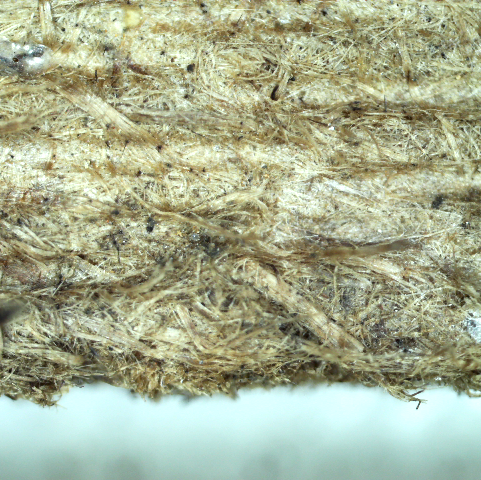ovo: (276, 319, 340, 360), (341, 204, 399, 242), (221, 88, 272, 131), (401, 116, 448, 142), (7, 42, 55, 67)
